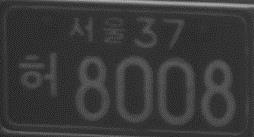0: (114, 54, 156, 125), (158, 57, 200, 128)
3: (133, 13, 158, 50)
7: (159, 15, 188, 53)
8: (74, 54, 112, 123), (200, 57, 236, 129)
서울_O: (65, 12, 128, 47)
허: (17, 49, 62, 100)
